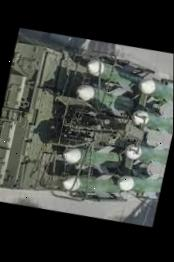rszo: (0, 21, 174, 225)
